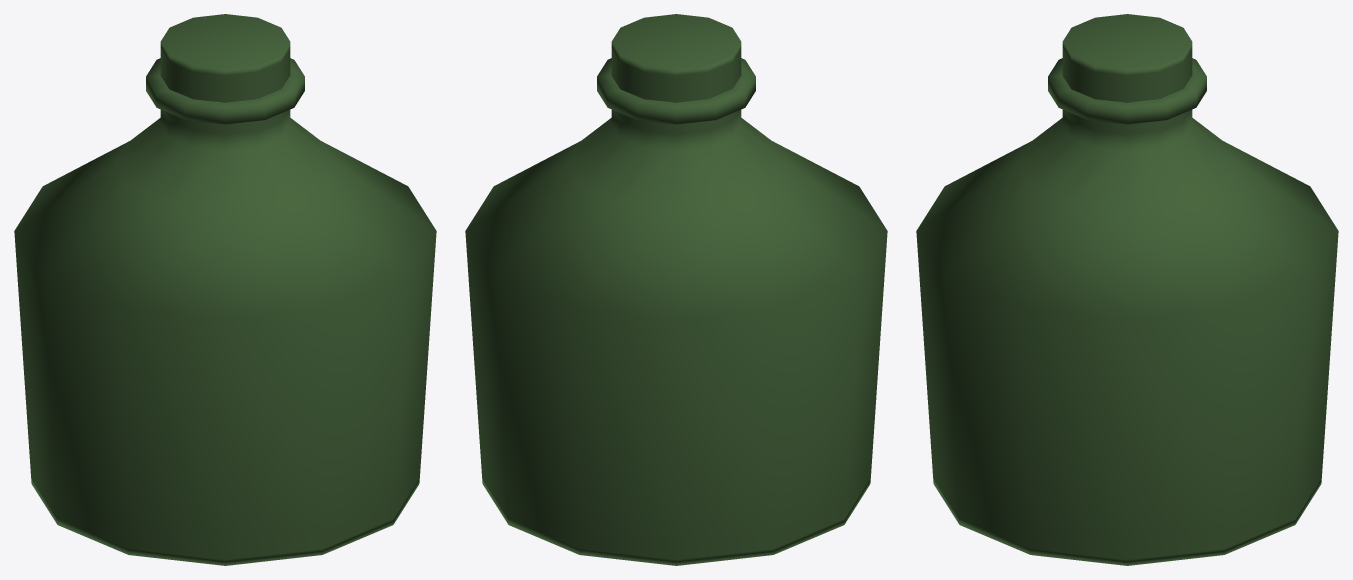
File: Kitchen_set_Kitchen_set_Kitchen_set_Props_grp_Kitchen_set_North_grp_Kitchen_set_NorthWall_grp_Kitchen_set_BottleShort_1.obj
3 views of the same model, side by side, from view 1: azimuth 30°, elevation 25°; view 2: azimuth 150°, elevation 25°; view 3: azimuth 270°, elevation 25° (orthographic).
Visible parts, largest first — view 1: Kitchen_set_Bottle1 NCCA_Export; view 2: Kitchen_set_Bottle1 NCCA_Export; view 3: Kitchen_set_Bottle1 NCCA_Export.
Boxes of the visible parts, box(x1,y1,x2,y2) form: Kitchen_set_Bottle1 NCCA_Export: box(14, 14, 436, 565); Kitchen_set_Bottle1 NCCA_Export: box(465, 14, 887, 565); Kitchen_set_Bottle1 NCCA_Export: box(916, 14, 1338, 565).
Bounding box in the file's own units: 0.8645 × 1 × 0.8645.
